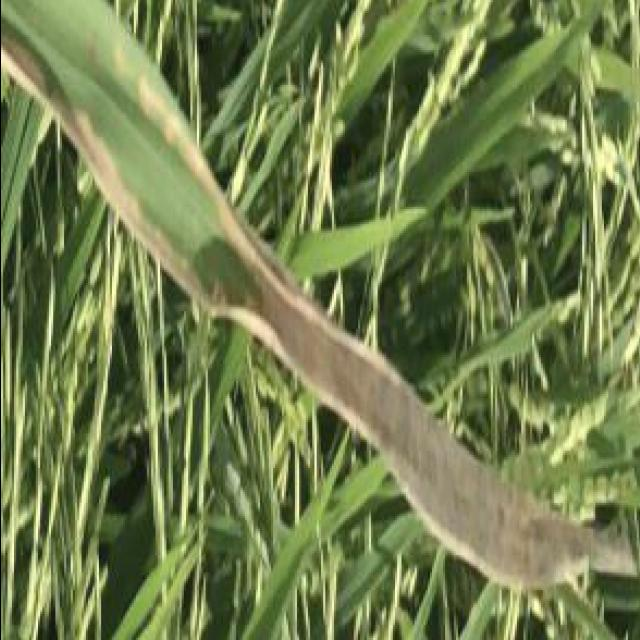Bacterial_Leaf_Blight: (0, 11, 292, 327)
